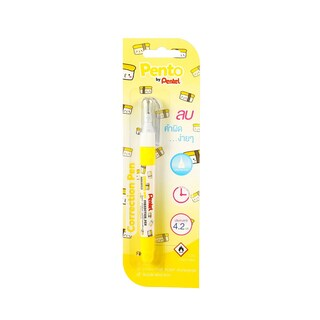Correction_fluid: (132, 95, 161, 268)
